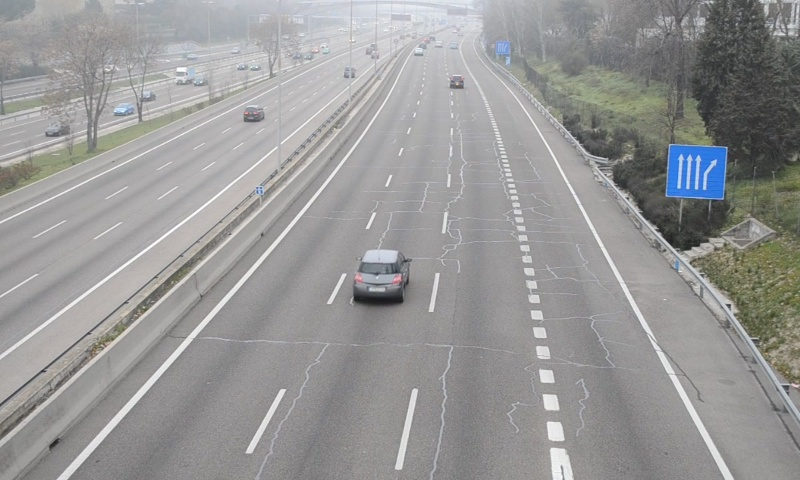car: (354, 249, 408, 299), (450, 74, 464, 89)
